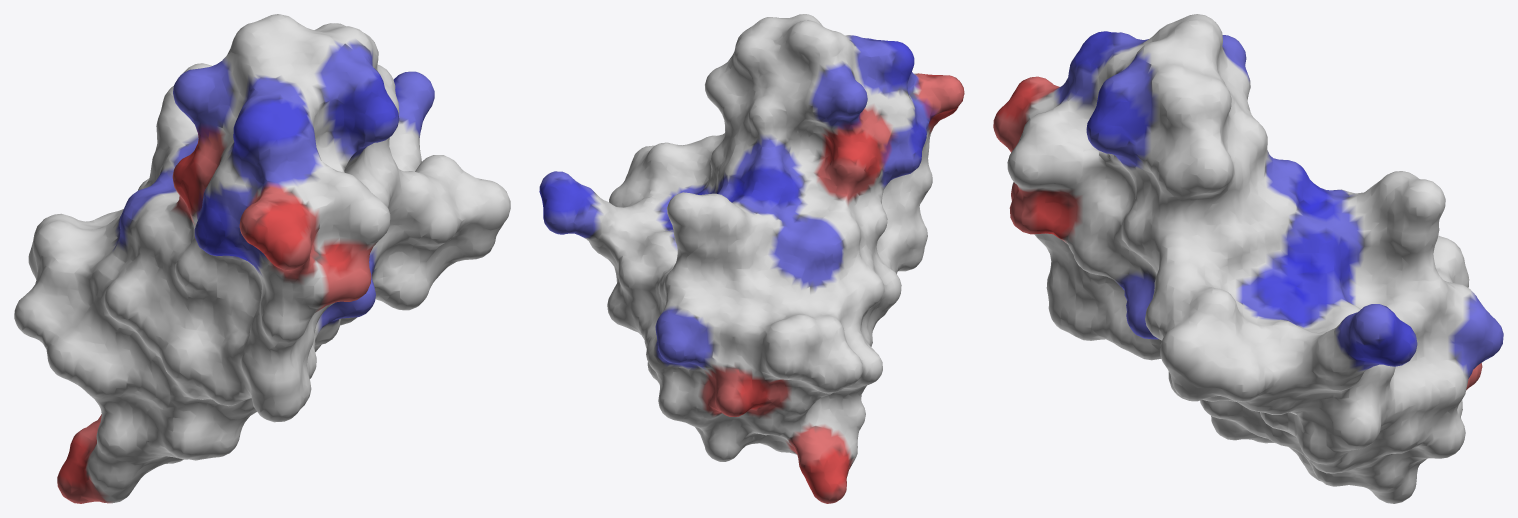
The model's file is 1FSS_B_se_1.fbx.
The picture shows the model from 3 angles, left to right: view 1: azimuth 30°, elevation 25°; view 2: azimuth 150°, elevation 25°; view 3: azimuth 270°, elevation 25°; orthographic projection. The views are drawn at different scales.
Visible parts, largest first — view 1: Cube; view 2: Cube; view 3: Cube.
Boxes of the visible parts, box(x1,y1,x2,y2) form: Cube: box(14, 14, 510, 503); Cube: box(539, 14, 964, 503); Cube: box(993, 14, 1503, 503).
Bounding box in the file's own units: 3070 × 3727 × 3363.
